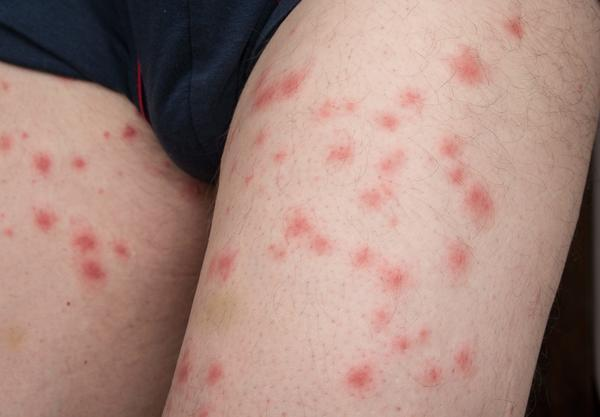Fleas: (434, 131, 475, 192), (444, 45, 492, 94), (250, 70, 309, 107), (341, 358, 383, 396), (465, 186, 497, 232), (373, 144, 411, 182), (357, 181, 397, 217), (73, 255, 111, 290), (416, 360, 451, 396), (206, 247, 238, 282), (324, 141, 356, 170), (116, 121, 145, 149), (319, 99, 360, 117), (448, 238, 469, 273), (305, 231, 333, 257), (504, 15, 527, 46), (173, 352, 196, 383), (379, 267, 406, 293), (407, 325, 435, 350), (351, 246, 379, 269), (72, 229, 96, 255), (452, 346, 472, 376), (268, 145, 292, 168), (400, 88, 424, 110), (265, 242, 289, 264), (35, 209, 57, 232), (376, 112, 400, 133), (202, 363, 224, 385), (287, 216, 311, 236), (32, 151, 51, 176), (111, 243, 133, 260), (372, 308, 391, 327), (392, 333, 411, 352), (252, 127, 269, 147), (70, 154, 87, 170), (239, 170, 255, 186), (0, 135, 13, 154)
